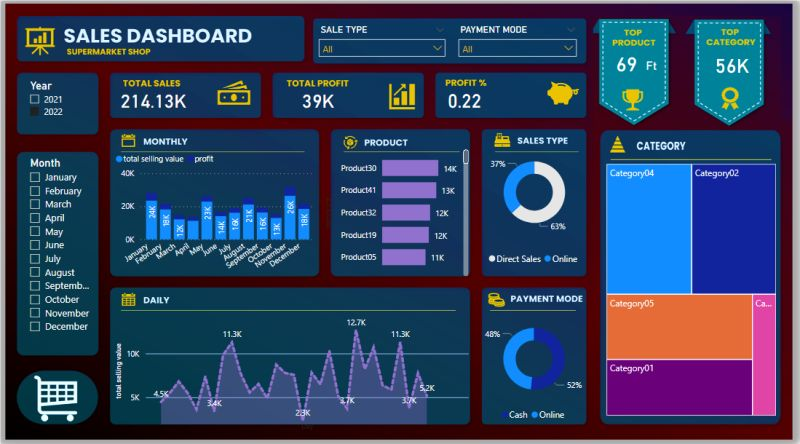

This screenshot's page, from the dashboard's own definition file:
{"tool":"powerbi","page":{"name":"sales ","canvas":[1280,720],"ordinal":0},"visuals":[{"type":"slicer","fields":{"Values":["InputData.SALE TYPE"]},"box":[505.9,49.6,216.3,59.7],"z":0},{"type":"treemap","fields":{"Group":["MasterData.CATEGORY"],"Values":["Sum(InputData.total selling value)"]},"box":[956.6,265.9,271.5,398.9],"z":1000},{"type":"slicer","fields":{"Values":["InputData.PAYMENT MODE"]},"box":[722.3,49.6,202.8,65.4],"z":2000},{"type":"slicer","fields":{"Values":["InputData.DATE.Variation.Date Hierarchy.Year"]},"box":[56.3,134.1,110.4,86.8],"z":3000},{"type":"slicer","fields":{"Values":["InputData.DATE.Variation.Date Hierarchy.Month"]},"box":[56.3,253.5,110.4,303.1],"z":4000},{"type":"card","fields":{"Values":["Sum(InputData.total selling value)"]},"box":[181.2,133.9,157,75],"z":5000},{"type":"card","fields":{"Values":["InputData.profit"]},"box":[436.1,147.6,157.7,48.5],"z":6000},{"type":"card","fields":{"Values":["InputData.profit %"]},"box":[686.7,143.1,110.8,57.7],"z":7000},{"type":"clusteredBarChart","fields":{"Category":["InputData.MasterData.PRODUCT"],"Y":["Sum(InputData.total selling value)"]},"box":[522.3,235.3,229.9,213.6],"z":8000},{"type":"areaChart","fields":{"Category":["InputData.Day"],"Y":["Sum(InputData.total selling value)"]},"box":[196.1,495.8,556.6,191.5],"z":9000},{"type":"donutChart","fields":{"Y":["Sum(InputData.total selling value)"],"Category":["InputData.SALE TYPE"]},"box":[766.2,222,166.8,214.1],"z":10000},{"type":"donutChart","fields":{"Category":["InputData.PAYMENT MODE"],"Y":["Sum(InputData.total selling value)"]},"box":[766.4,496.3,166.2,182.4],"z":11000},{"type":"card","fields":{"Values":["Min(InputData.MasterData.UOM)"]},"box":[1000.6,93.5,59.7,49.6],"z":12000},{"type":"card","fields":{"Values":["Sum(InputData.QUANTITY)"]},"box":[943.1,62,98,104.8],"z":13000},{"type":"card","fields":{"Values":["Sum(InputData.total selling value)"]},"box":[1112.7,51.7,84.3,130.6],"z":14000},{"type":"columnChart","fields":{"Category":["InputData.monthly"],"Y":["Sum(InputData.total selling value)","InputData.profit"]},"box":[196.1,243.4,318.9,206.2],"z":15000}]}

Visuals, with their boxes in screenshot pixels (x1, y1, x2, y2), scaled from the page's 1280x720 canvas onto the 800x444 screenshot:
slicer - InputData.SALE TYPE: bbox(316, 31, 451, 67)
treemap - MasterData.CATEGORY x Sum(InputData.total selling value): bbox(598, 164, 768, 410)
slicer - InputData.PAYMENT MODE: bbox(451, 31, 578, 71)
slicer - InputData.DATE.Variation.Date Hierarchy.Year: bbox(35, 83, 104, 136)
slicer - InputData.DATE.Variation.Date Hierarchy.Month: bbox(35, 156, 104, 343)
card - Sum(InputData.total selling value): bbox(113, 83, 211, 129)
card - InputData.profit: bbox(273, 91, 371, 121)
card - InputData.profit %: bbox(429, 88, 498, 124)
clusteredBarChart - InputData.MasterData.PRODUCT x Sum(InputData.total selling value): bbox(326, 145, 470, 277)
areaChart - InputData.Day x Sum(InputData.total selling value): bbox(123, 306, 470, 424)
donutChart - Sum(InputData.total selling value) x InputData.SALE TYPE: bbox(479, 137, 583, 269)
donutChart - InputData.PAYMENT MODE x Sum(InputData.total selling value): bbox(479, 306, 583, 419)
card - Min(InputData.MasterData.UOM): bbox(625, 58, 663, 88)
card - Sum(InputData.QUANTITY): bbox(589, 38, 651, 103)
card - Sum(InputData.total selling value): bbox(695, 32, 748, 112)
columnChart - InputData.monthly x Sum(InputData.total selling value): bbox(123, 150, 322, 277)
